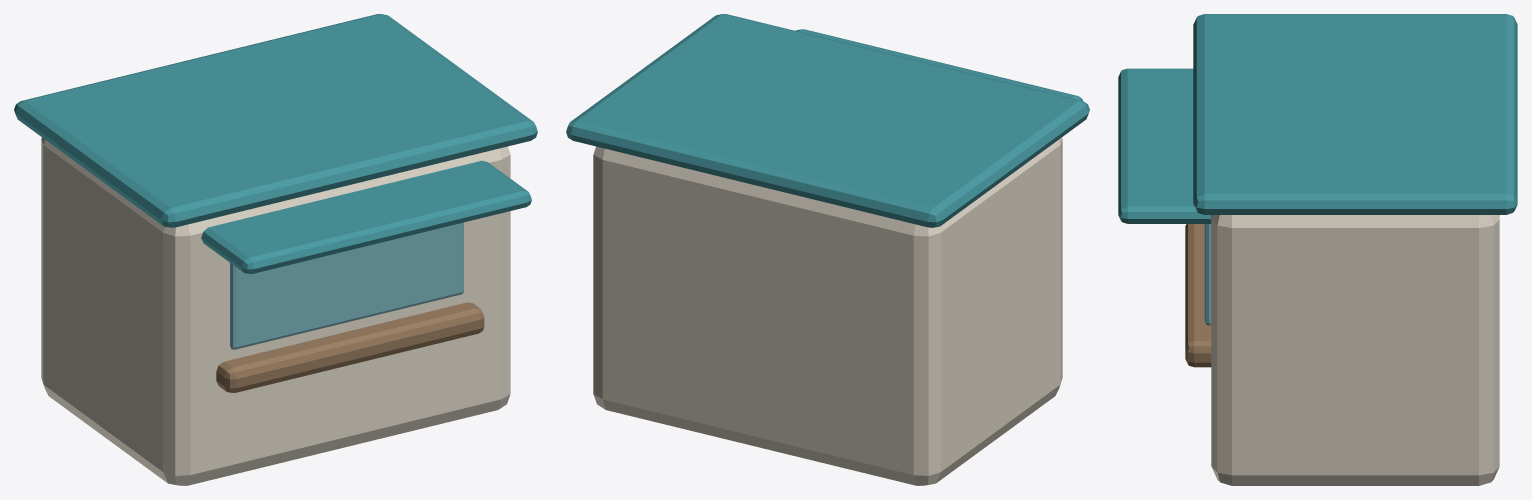
Rendered from kiosk_civic_lod1_v2.glb.
3 views of the same model, side by side, from view 1: azimuth 30°, elevation 25°; view 2: azimuth 150°, elevation 25°; view 3: azimuth 270°, elevation 25° (orthographic). The views are drawn at different scales.
Visible parts, largest first — view 1: LOD1_KIOSK_CIVIC_Body, LOD1_KIOSK_CIVIC_Roof, LOD1_KIOSK_CIVIC_Canopy, LOD1_KIOSK_CIVIC_Window, LOD1_KIOSK_CIVIC_Counter; view 2: LOD1_KIOSK_CIVIC_Body, LOD1_KIOSK_CIVIC_Roof, LOD1_KIOSK_CIVIC_Canopy; view 3: LOD1_KIOSK_CIVIC_Body, LOD1_KIOSK_CIVIC_Roof, LOD1_KIOSK_CIVIC_Canopy, LOD1_KIOSK_CIVIC_Counter, LOD1_KIOSK_CIVIC_Window.
Boxes of the visible parts, x1,y1,x2,y2 form: LOD1_KIOSK_CIVIC_Body: (41, 137, 510, 485); LOD1_KIOSK_CIVIC_Roof: (14, 14, 537, 227); LOD1_KIOSK_CIVIC_Canopy: (201, 160, 531, 273); LOD1_KIOSK_CIVIC_Window: (230, 222, 463, 349); LOD1_KIOSK_CIVIC_Counter: (216, 302, 484, 392); LOD1_KIOSK_CIVIC_Body: (593, 137, 1062, 485); LOD1_KIOSK_CIVIC_Roof: (566, 14, 1089, 227); LOD1_KIOSK_CIVIC_Canopy: (795, 29, 1082, 100); LOD1_KIOSK_CIVIC_Body: (1211, 215, 1499, 485); LOD1_KIOSK_CIVIC_Roof: (1193, 14, 1517, 214); LOD1_KIOSK_CIVIC_Canopy: (1118, 68, 1211, 223); LOD1_KIOSK_CIVIC_Counter: (1185, 224, 1211, 367); LOD1_KIOSK_CIVIC_Window: (1204, 224, 1211, 325).
Size of what is drawn, in the model's own units: 4.35 by 3.25 by 3.88.
